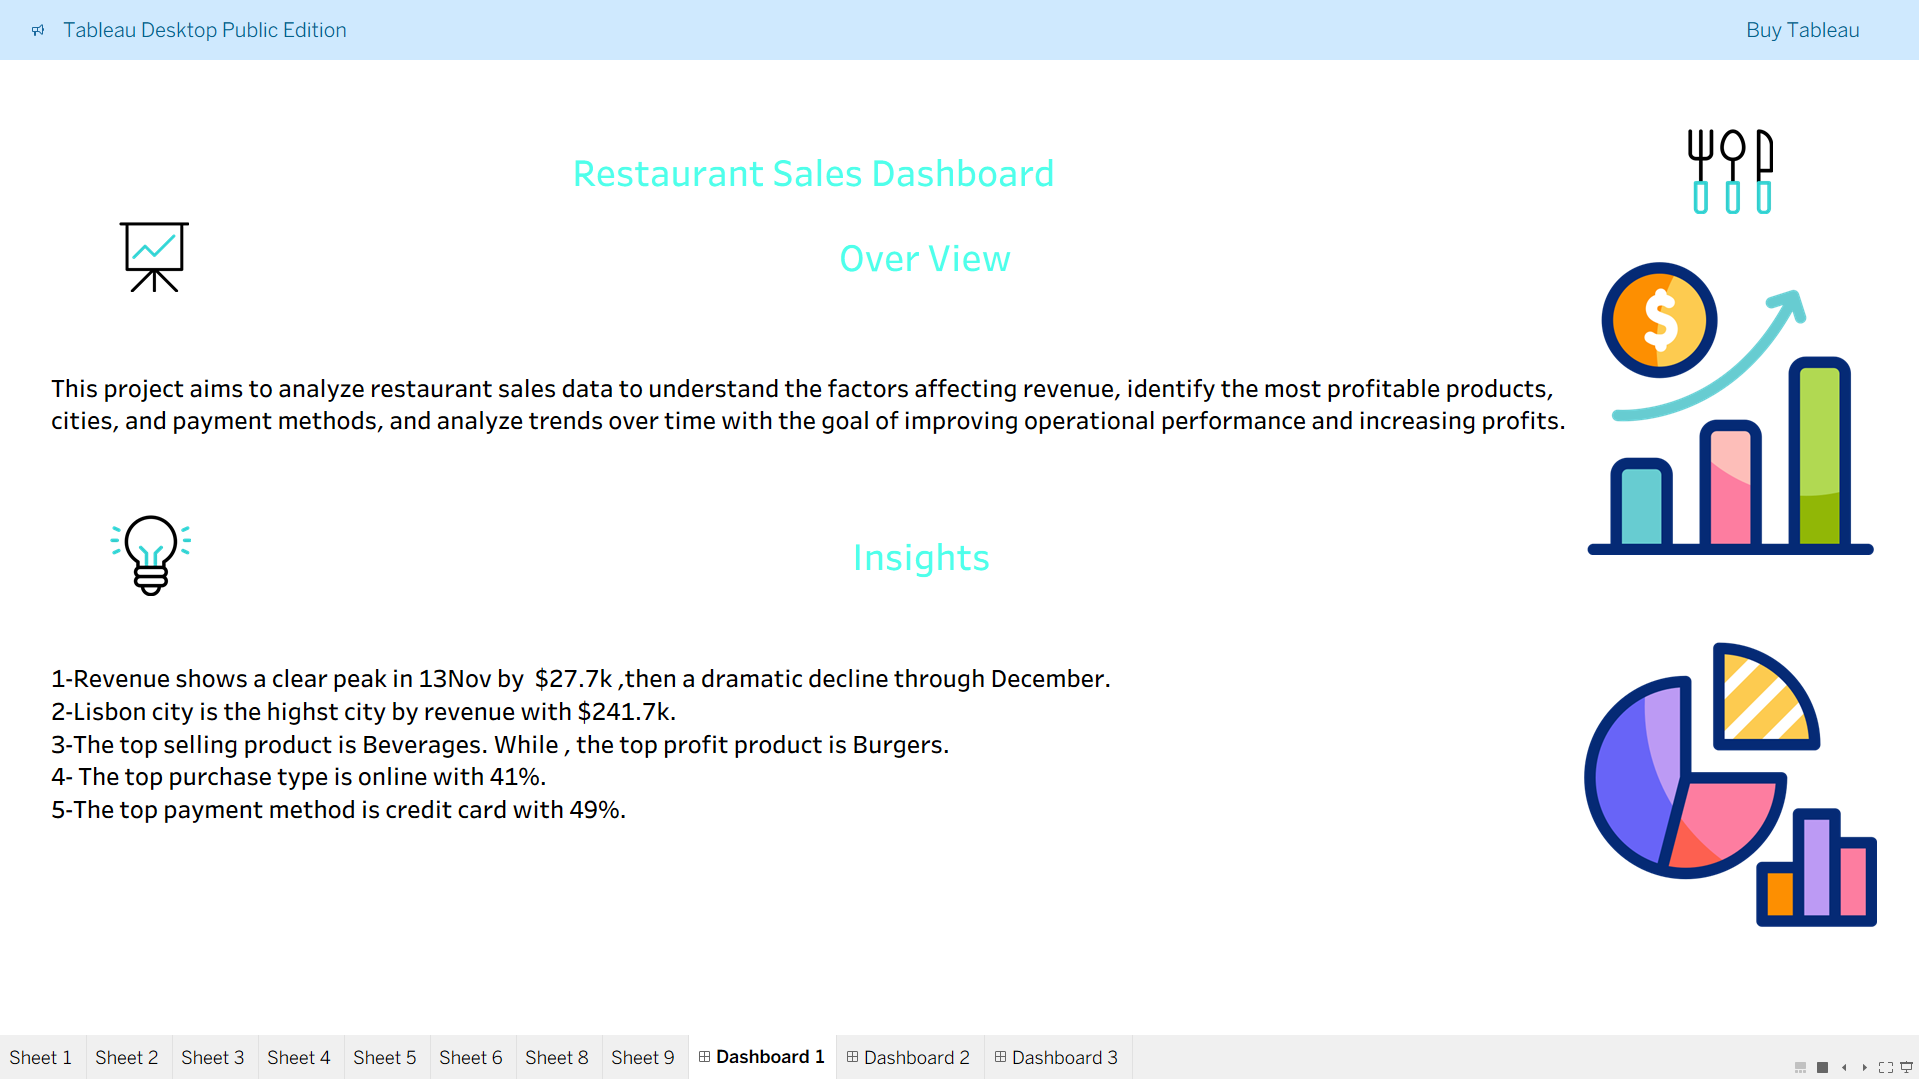

This screenshot's page, from the dashboard's own definition file:
{"tool":"tableau","page":{"name":"Dashboard 1","canvas":[1000,1000],"units":"permille","ordinal":0},"visuals":[{"type":"text","box":[4.3,9.3,833.4,108.7]},{"type":"image","param":"Image/cutlery.png","box":[837.7,9.3,158,108.7]},{"type":"image","param":"Image/presentation.png","box":[4.3,118,120,90.1]},{"type":"text","box":[124.3,118,713.3,90.1]},{"type":"dashboard-object","box":[837.7,118,158,443.6]},{"type":"text","box":[4.3,208.1,833.4,249.9]},{"type":"image","param":"Image/idea.png","box":[4.3,458,116.5,103.6]},{"type":"text","box":[120.8,458,716.9,103.6]},{"type":"text","box":[4.3,561.6,833.4,333.7]},{"type":"dashboard-object","box":[837.7,561.6,158,429.1]}]}

Visuals, with their boxes on the dashboard's canvas, which has no fixed pixel size, in thousandths of its width and height (x1, y1, x2, y2). These are canvas units, not pixel positions in the 1919x1079 screenshot, which may show the page scaled, cropped or inside an application window:
text: (x1=4, y1=9, x2=838, y2=118)
image: (x1=838, y1=9, x2=996, y2=118)
image: (x1=4, y1=118, x2=124, y2=208)
text: (x1=124, y1=118, x2=838, y2=208)
dashboard-object: (x1=838, y1=118, x2=996, y2=562)
text: (x1=4, y1=208, x2=838, y2=458)
image: (x1=4, y1=458, x2=121, y2=562)
text: (x1=121, y1=458, x2=838, y2=562)
text: (x1=4, y1=562, x2=838, y2=895)
dashboard-object: (x1=838, y1=562, x2=996, y2=991)
